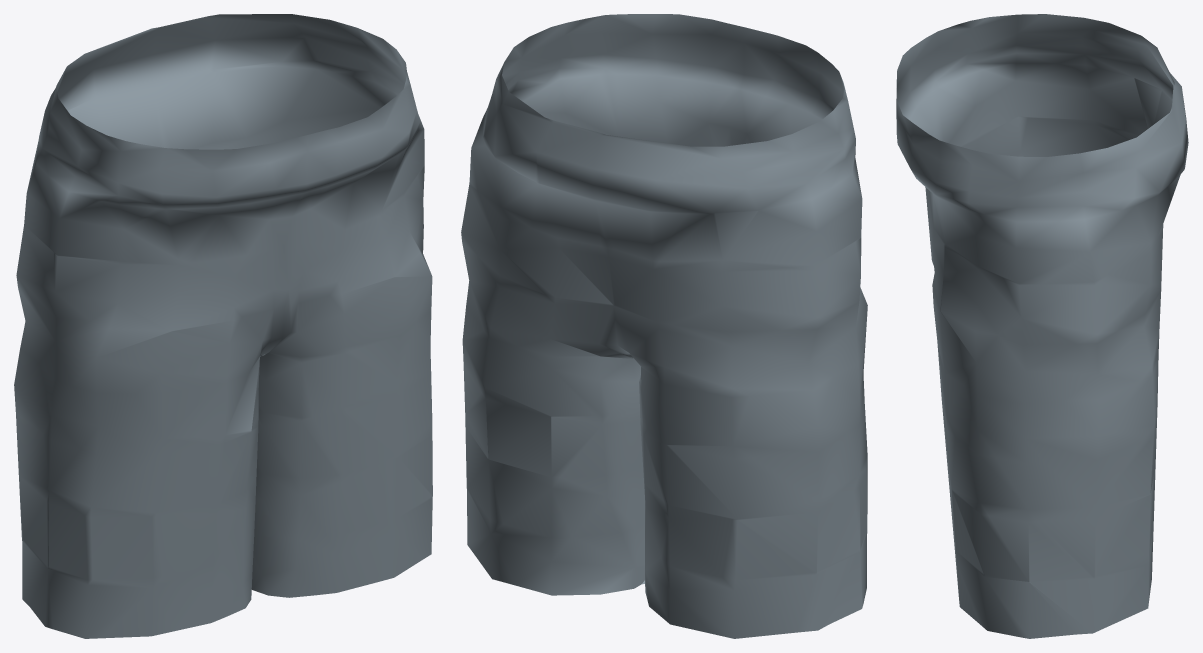
Rendered from shorts-only.glb.
The picture shows the model from 3 angles, left to right: view 1: azimuth 30°, elevation 25°; view 2: azimuth 150°, elevation 25°; view 3: azimuth 270°, elevation 25°; orthographic projection. The views are drawn at different scales.
Visible parts, largest first — view 1: Lowerwear_shorts_0; view 2: Lowerwear_shorts_0; view 3: Lowerwear_shorts_0.
Part boxes in pixels (x1=…): Lowerwear_shorts_0: x1=14, y1=14, x2=432, y2=638; Lowerwear_shorts_0: x1=461, y1=14, x2=867, y2=638; Lowerwear_shorts_0: x1=896, y1=14, x2=1188, y2=638.
Bounding box in the file's own units: 0.957 × 1.19 × 0.6763.
